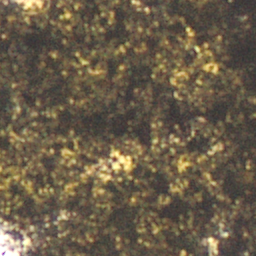cement_matrix: (0, 0, 255, 255), (116, 157, 128, 167)
gravel_crushed_stones: (0, 227, 24, 255), (20, 0, 39, 6), (117, 158, 127, 166)
